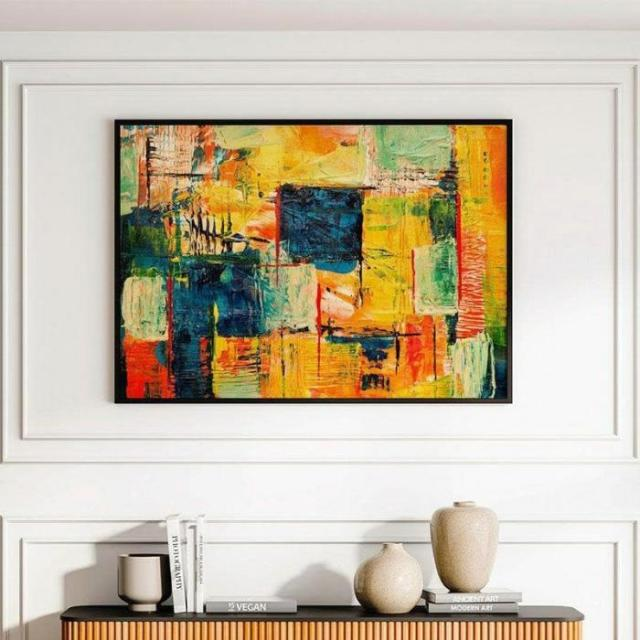painting: (114, 115, 512, 402)
